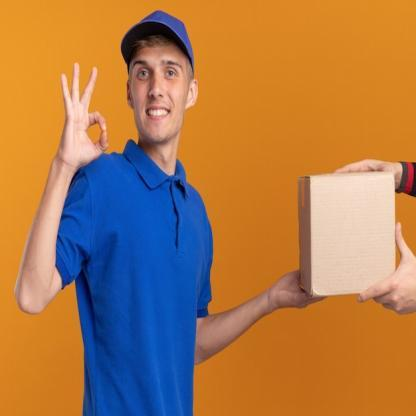ok: (54, 61, 110, 172)
